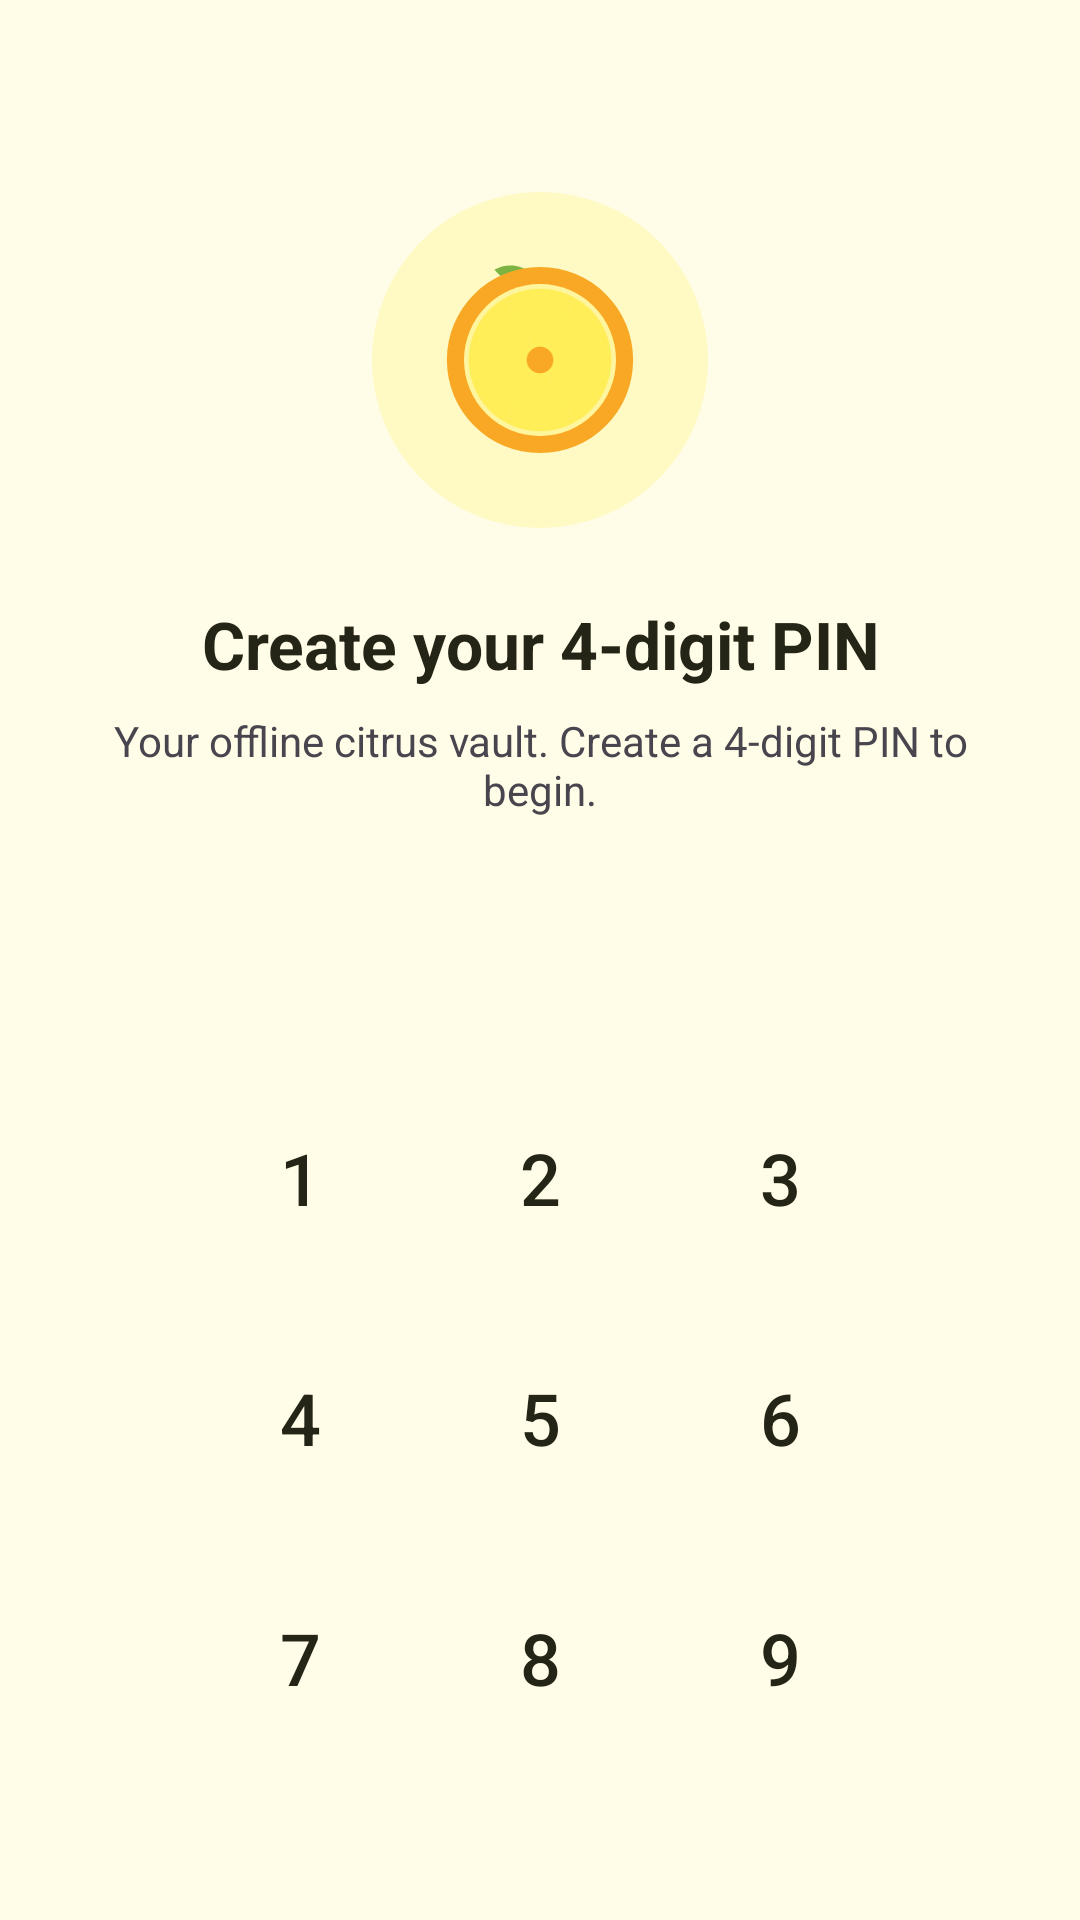

Screen size 1080px x 1920px. Icon name, then its center in pixels as [x,y]:
lemon: [540,359]
